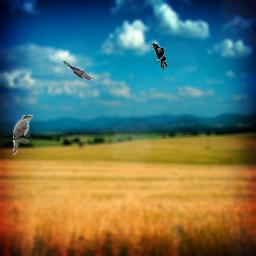Crow: (151, 43, 167, 70)
Cuckoo: (13, 115, 33, 155), (63, 61, 94, 80)
